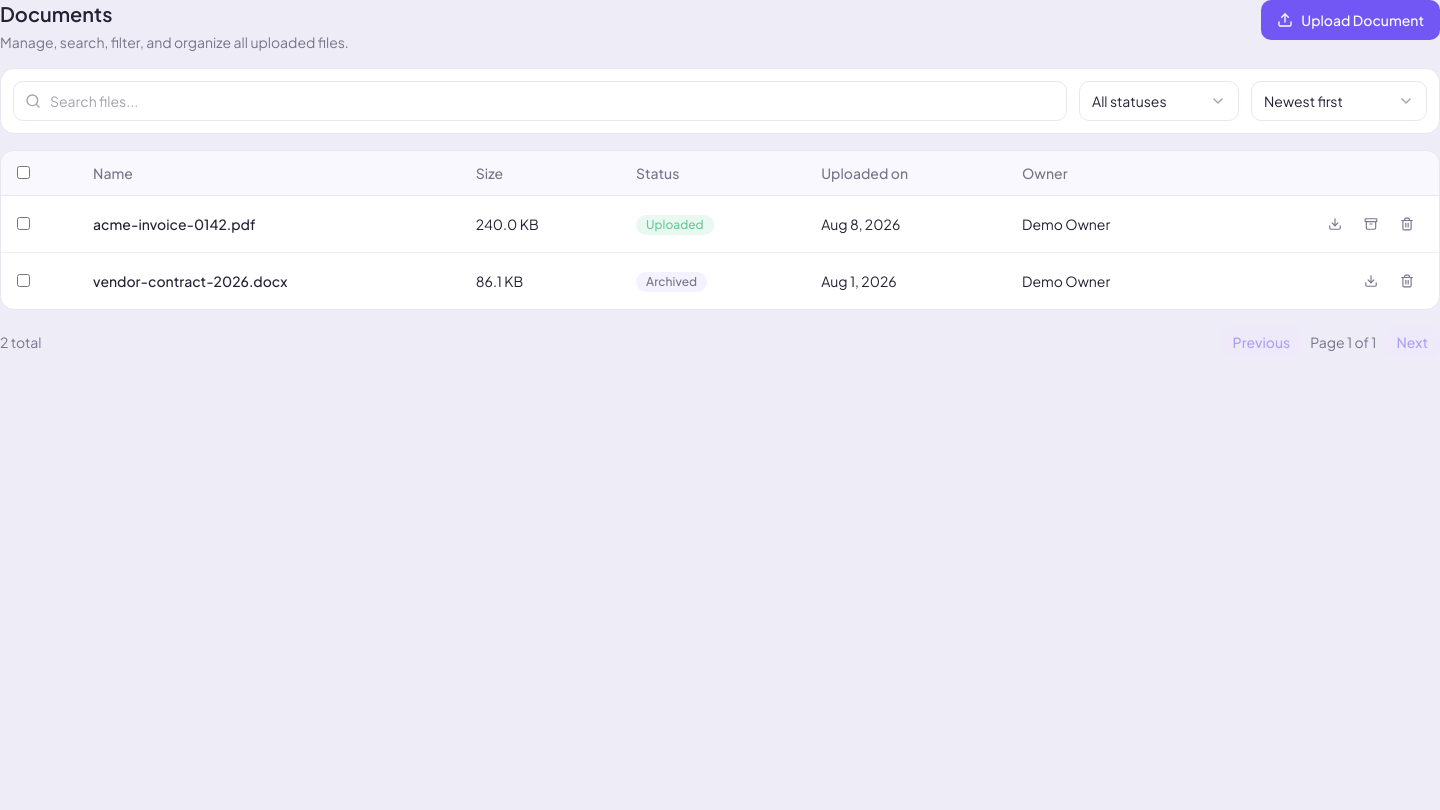
Test: DocumentsPage — selection and bulk actions › deletes selected documents after confirmation
The image size is (1440, 810).
Expected: the text "vendor-contract-2026.docx" is shown, top-left (77, 252), bottom-right (460, 309)
Click the checkbox named "select vendor-contract-2026.docx" at (24, 280), box top-left (17, 274), bottom-right (30, 287)
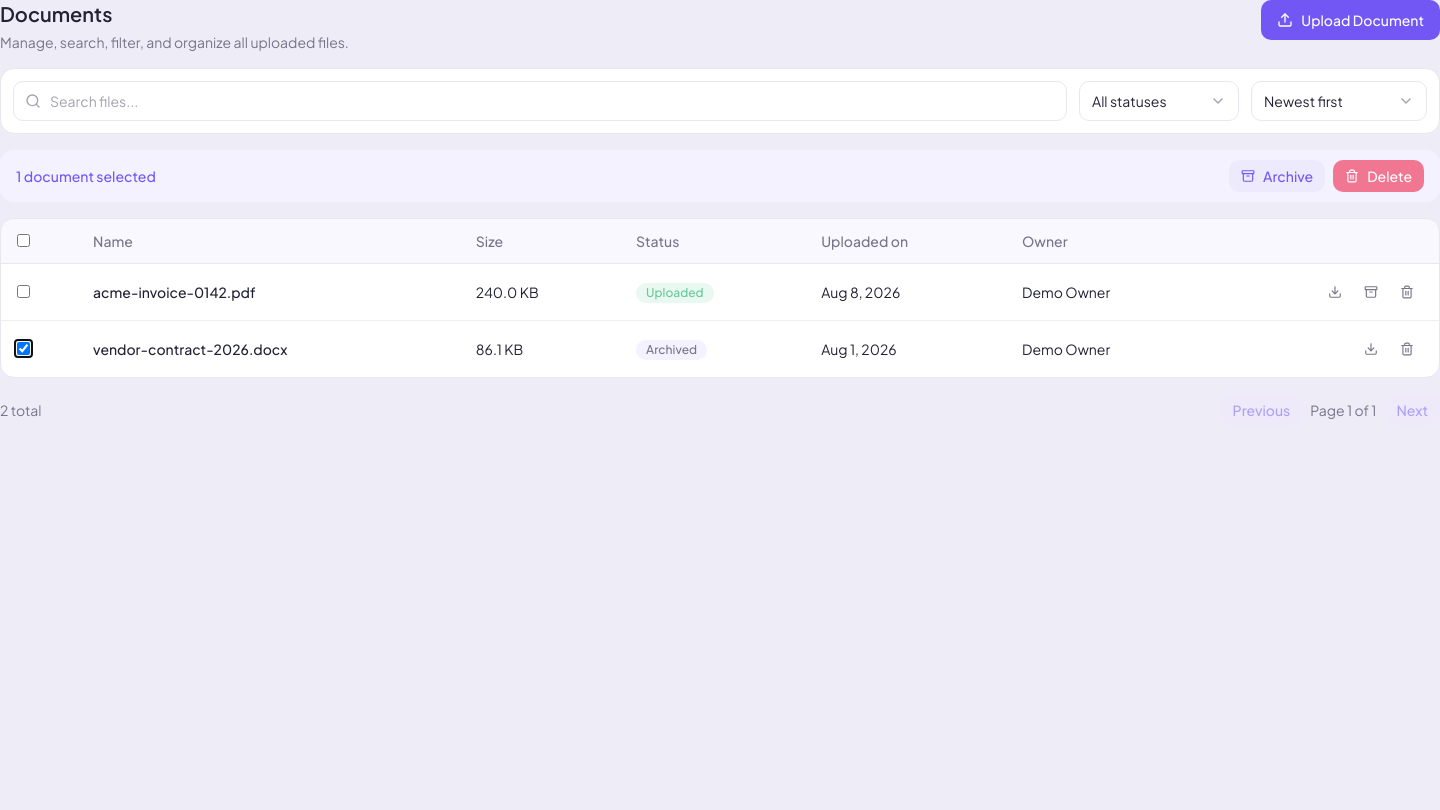
Click the button "Delete" at (1379, 176), box top-left (1333, 160), bottom-right (1424, 192)
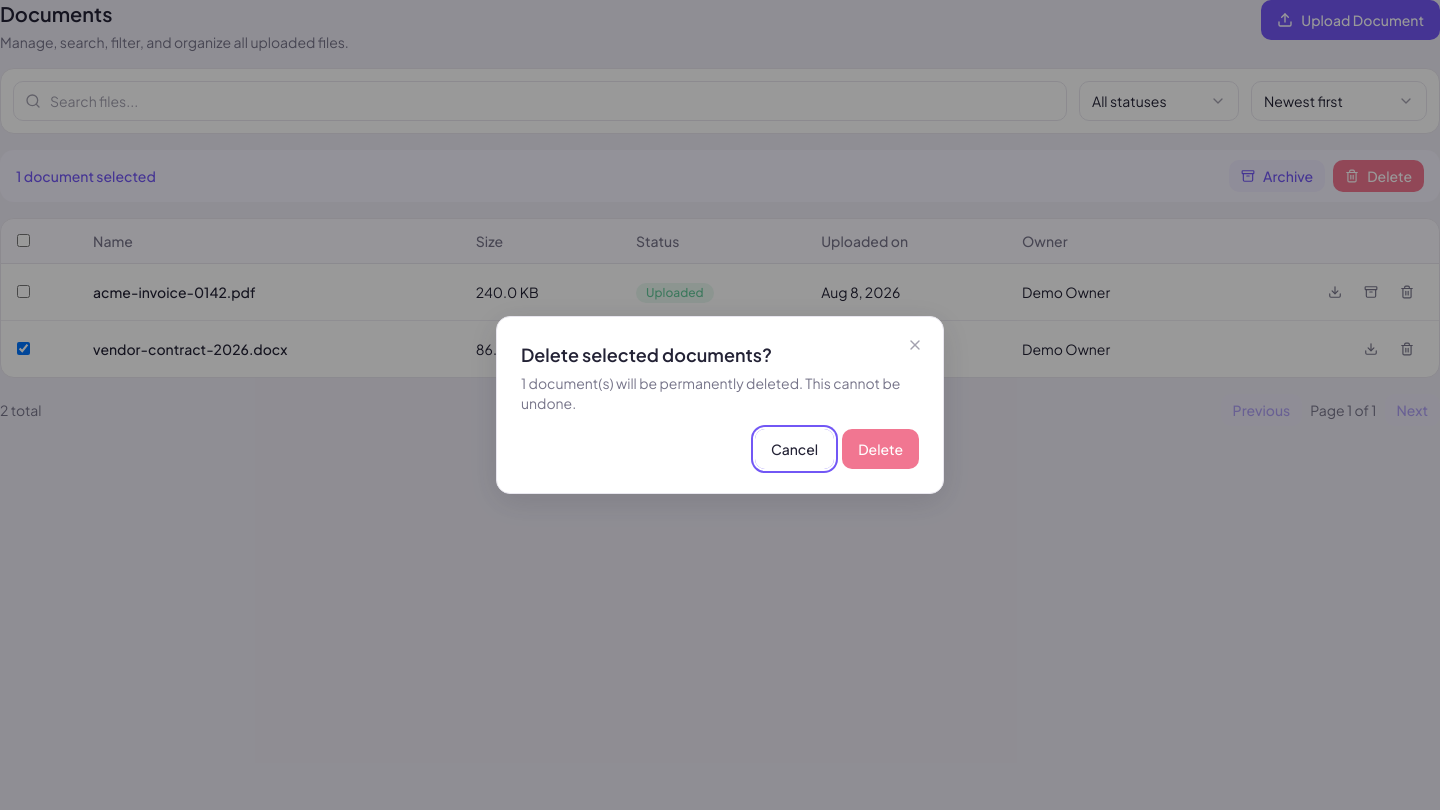
Click the button "Delete" at (881, 449), box top-left (842, 429), bottom-right (919, 469)
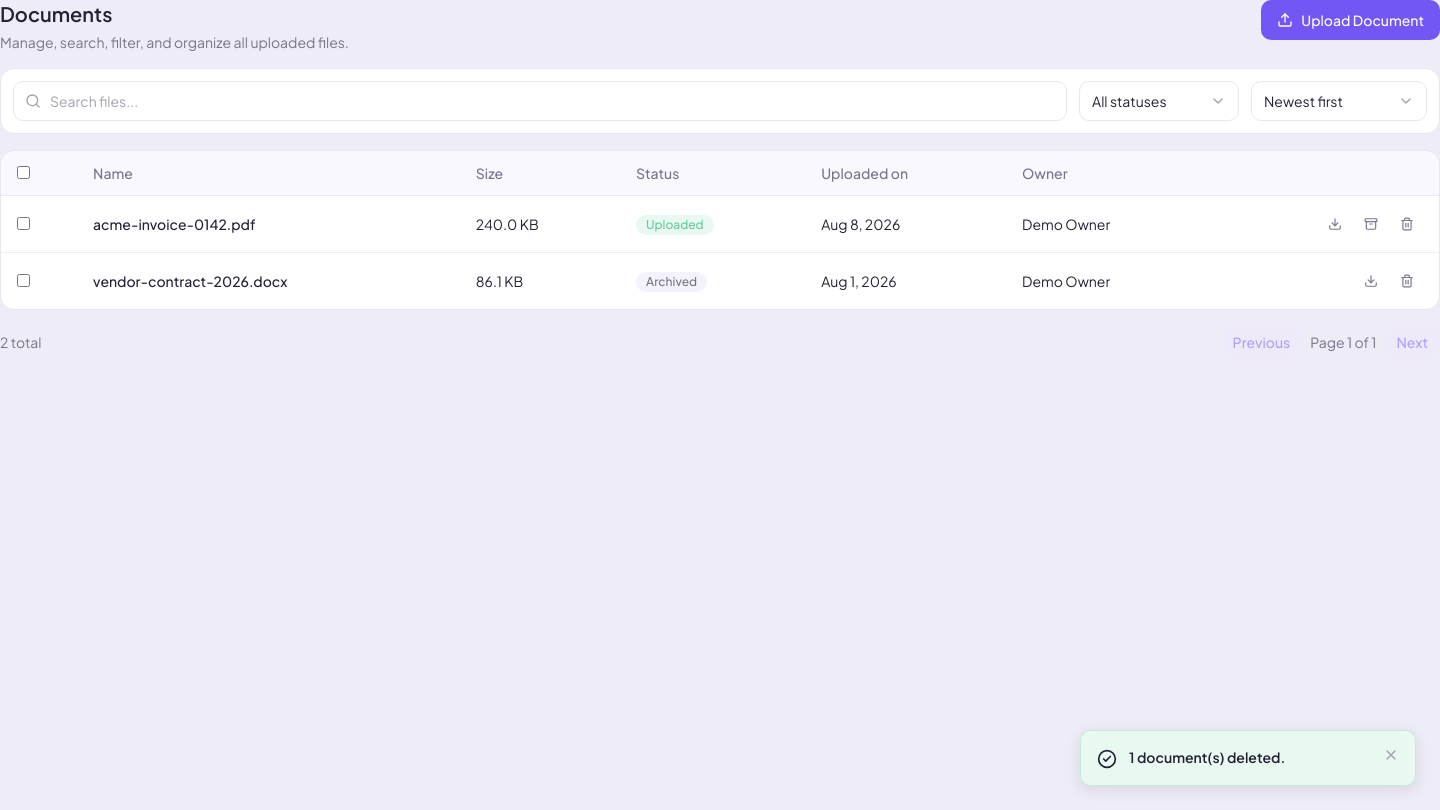
Expected: the text "1 document selected" is gone
